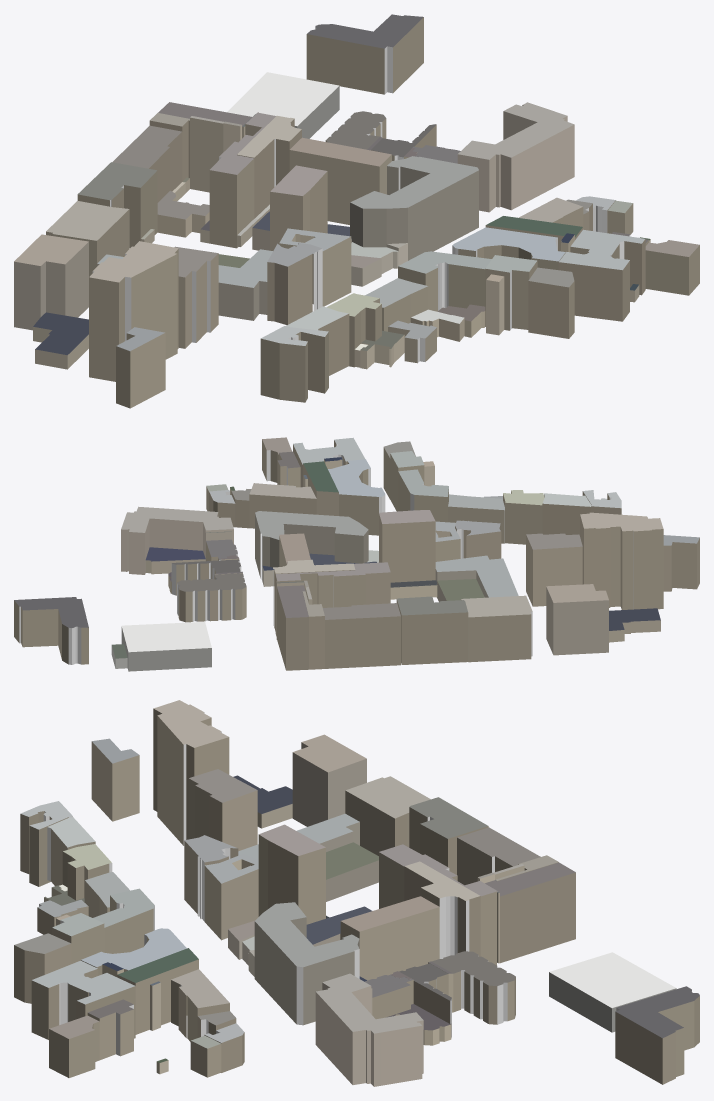
The picture shows the model from 3 angles, top to bottom: view 1: azimuth 30°, elevation 25°; view 2: azimuth 150°, elevation 25°; view 3: azimuth 270°, elevation 25°; orthographic projection. The views are drawn at different scales.
Parts seen in each view (by area): view 1: tuile; view 2: tuile; view 3: tuile.
Boxes of the visible parts, x1,y1,x2,y2 form: tuile: [14, 14, 699, 408]; tuile: [14, 437, 699, 671]; tuile: [14, 700, 699, 1086].
Size of the model in its own units: 276 by 45.48 by 270.
